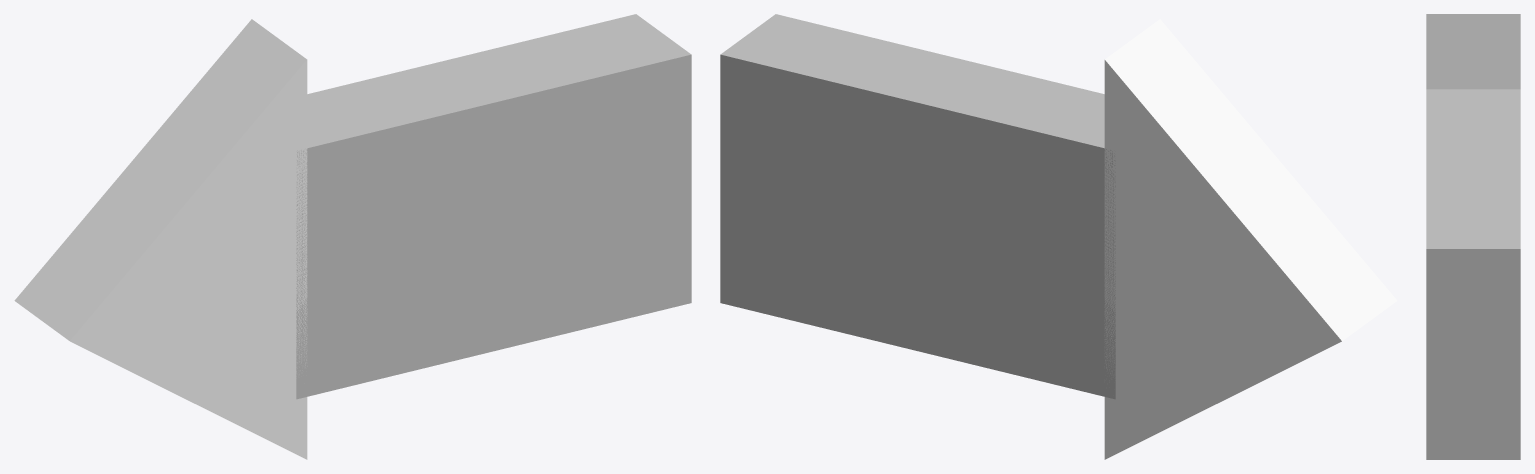
The picture shows the model from 3 angles, left to right: view 1: azimuth 30°, elevation 25°; view 2: azimuth 150°, elevation 25°; view 3: azimuth 270°, elevation 25°; orthographic projection. The views are drawn at different scales.
Visible parts, largest first — view 1: 立方体; view 2: 立方体; view 3: 立方体.
Part boxes in pixels (left/top/right/bottom): 立方体: left=14, top=14, right=691, bottom=459; 立方体: left=720, top=14, right=1397, bottom=459; 立方体: left=1426, top=14, right=1520, bottom=459.
Bounding box in the file's own units: 5.24 × 3.22 × 0.8086.
